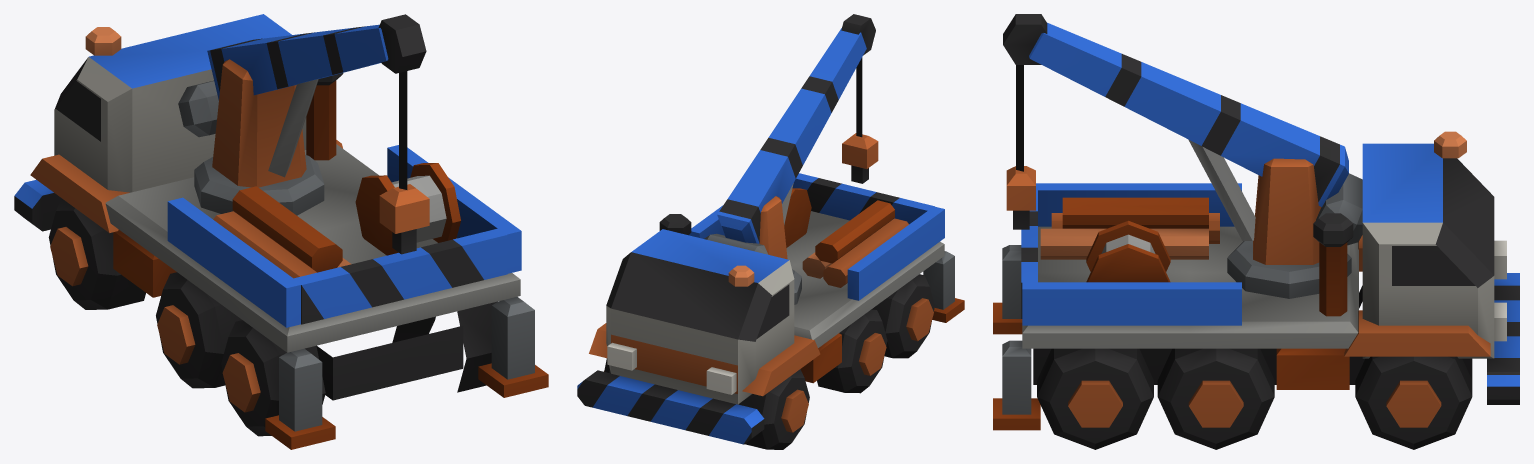
3 views of the same model, side by side, from view 1: azimuth 30°, elevation 25°; view 2: azimuth 150°, elevation 25°; view 3: azimuth 270°, elevation 25° (orthographic). The views are drawn at different scales.
Parts seen in each view (by area): view 1: body, turret, spinWheelML, spinWheelFL, spinWheelRL, spinWheelRR, spinWheelMR; view 2: body, turret, spinWheelML, spinWheelRL, spinWheelFL; view 3: body, turret, spinWheelMR, spinWheelRR, spinWheelFR.
Part boxes in pixels (bbox=[...]): body: bbox=[14, 14, 548, 449]; turret: bbox=[178, 14, 429, 254]; spinWheelML: bbox=[156, 272, 241, 388]; spinWheelFL: bbox=[48, 198, 145, 309]; spinWheelRL: bbox=[221, 320, 325, 436]; spinWheelRR: bbox=[457, 301, 497, 392]; spinWheelMR: bbox=[392, 316, 435, 342]; body: bbox=[577, 173, 964, 444]; turret: bbox=[704, 14, 878, 304]; spinWheelML: bbox=[817, 309, 887, 393]; spinWheelRL: bbox=[872, 274, 934, 358]; spinWheelFL: bbox=[738, 369, 809, 449]; body: bbox=[993, 131, 1519, 430]; turret: bbox=[1003, 14, 1362, 298]; spinWheelMR: bbox=[1157, 348, 1274, 449]; spinWheelRR: bbox=[1037, 348, 1153, 449]; spinWheelFR: bbox=[1355, 356, 1472, 449].
Bounding box in the file's own units: 0.75 × 1.15 × 1.44.
